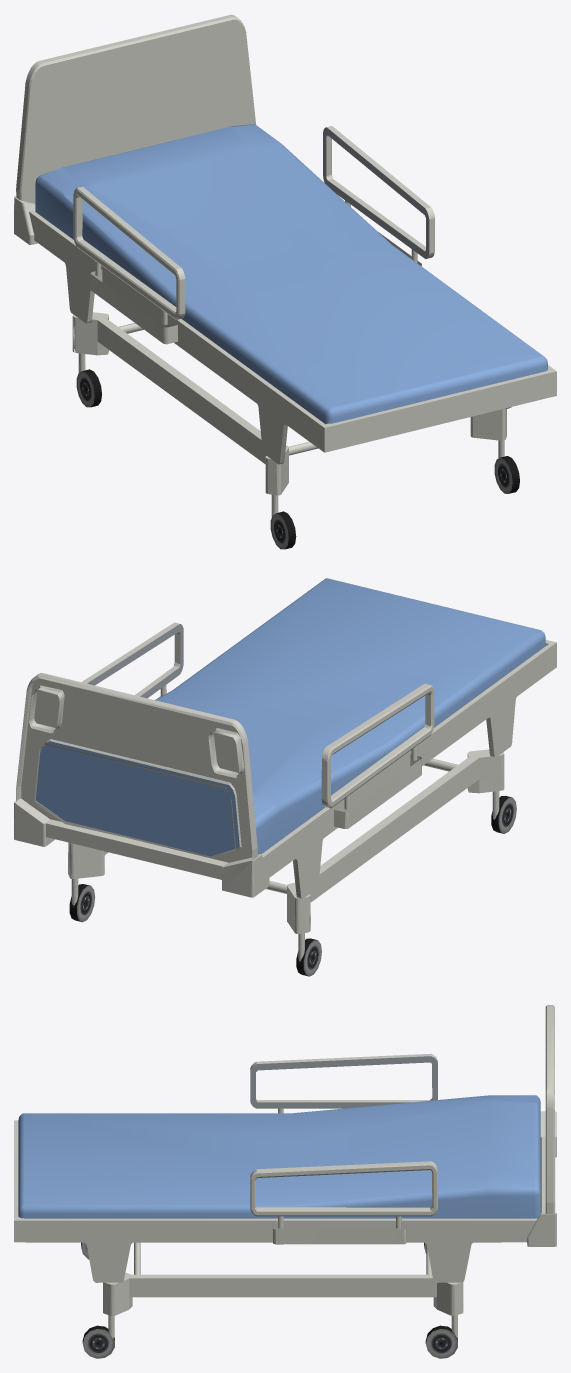
File: bed_w0.fbx
3 renders of one model, top to bottom at view 1: azimuth 30°, elevation 25°; view 2: azimuth 150°, elevation 25°; view 3: azimuth 270°, elevation 25°, orthographic. The views are drawn at different scales.
Parts seen in each view (by area): view 1: Bed; view 2: Bed; view 3: Bed.
Boxes of the visible parts, left/top/right/bottom form: Bed: left=14, top=14, right=556, bottom=549; Bed: left=14, top=578, right=556, bottom=976; Bed: left=14, top=1005, right=556, bottom=1358.
Size of the model in its own units: 1.16 by 1.26 by 2.38.
